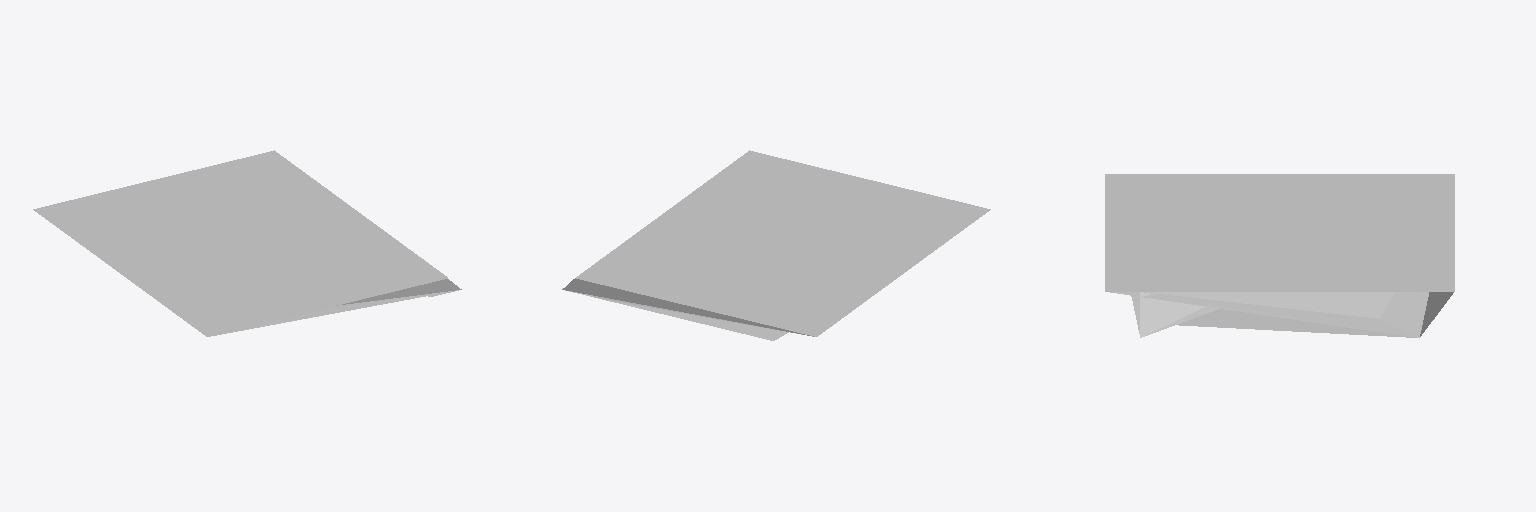
The model's file is Conference Room Stool.obj.
The picture shows the model from 3 angles: view 1: azimuth 30°, elevation 25°; view 2: azimuth 150°, elevation 25°; view 3: azimuth 270°, elevation 25°; orthographic projection.
Bounding box in the file's own units: 9 × 1 × 10.